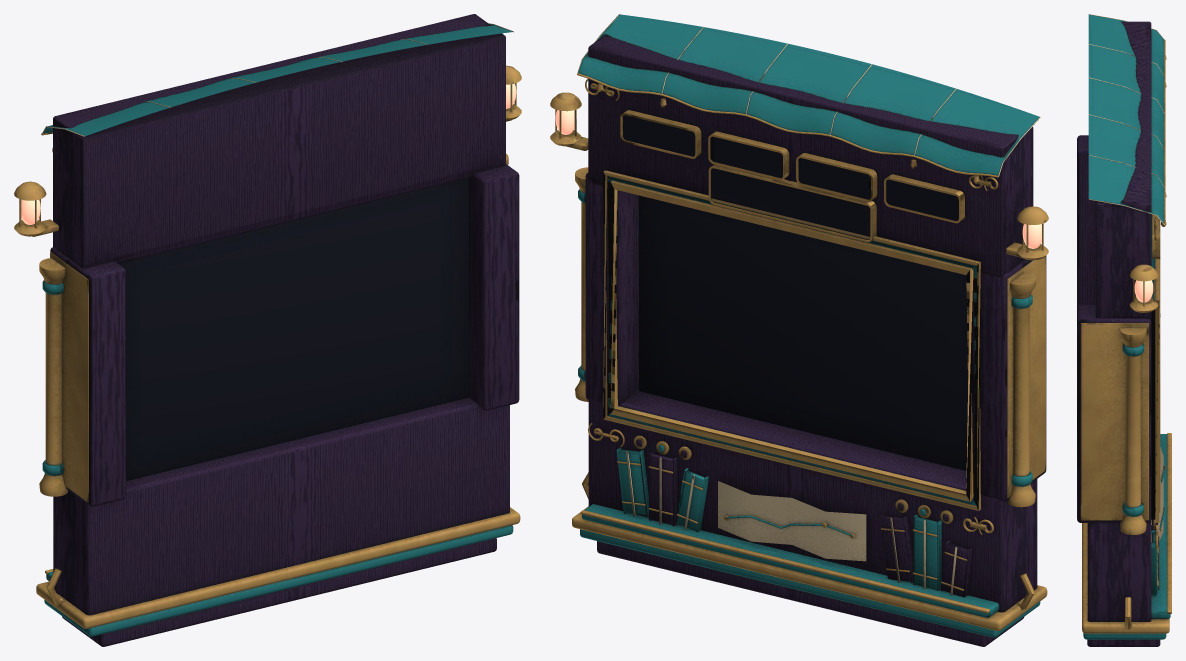
3 renders of one model, left to right at view 1: azimuth 30°, elevation 25°; view 2: azimuth 150°, elevation 25°; view 3: azimuth 270°, elevation 25°, orthographic. The views are drawn at different scales.
Parts seen in each view (by area): view 1: Violet_library_timber, Uniform_ink_display, Travelling_brass, Teal_woven_canopy; view 2: Violet_library_timber, Uniform_ink_display, Teal_woven_canopy, Travelling_brass, Folded_ivory_paper, Coral_reading_lantern_glow; view 3: Violet_library_timber, Travelling_brass, Teal_woven_canopy, Folded_ivory_paper, Coral_reading_lantern_glow.
Part boxes in pixels (x1,y1,x2,y2): Violet_library_timber: (50, 14, 519, 646); Uniform_ink_display: (118, 178, 468, 481); Travelling_brass: (14, 65, 521, 628); Teal_woven_canopy: (42, 24, 513, 636); Violet_library_timber: (585, 34, 1046, 646); Uniform_ink_display: (622, 115, 971, 470); Teal_woven_canopy: (578, 14, 1040, 637); Travelling_brass: (550, 73, 1048, 630); Folded_ivory_paper: (577, 14, 1040, 595); Coral_reading_lantern_glow: (555, 110, 1041, 248); Violet_library_timber: (1077, 21, 1160, 646); Travelling_brass: (1080, 39, 1171, 633); Teal_woven_canopy: (1083, 14, 1170, 639); Folded_ivory_paper: (1088, 14, 1164, 590); Coral_reading_lantern_glow: (1134, 280, 1153, 302).
Size of the model in its own units: 9.68 by 9.7 by 1.79.
Materials: 6 (5 with a texture image).
